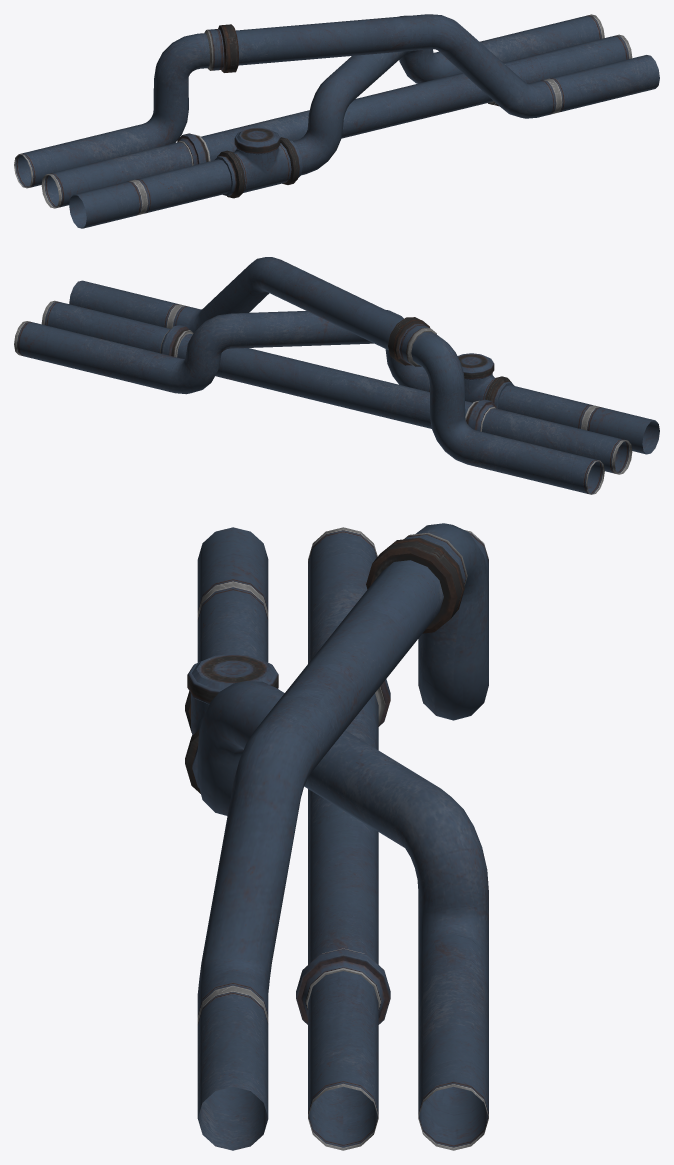
File: Pipe3_D_L0.fbx
The picture shows the model from 3 angles, top to bottom: view 1: azimuth 30°, elevation 25°; view 2: azimuth 150°, elevation 25°; view 3: azimuth 270°, elevation 25°; orthographic projection. The views are drawn at different scales.
Visible parts, largest first — view 1: PIpe3_D_L0; view 2: PIpe3_D_L0; view 3: PIpe3_D_L0.
Boxes of the visible parts, x1,y1,x2,y2 form: PIpe3_D_L0: (14, 14, 659, 228); PIpe3_D_L0: (14, 257, 659, 494); PIpe3_D_L0: (185, 523, 488, 1150).
Bounding box in the file's own units: 200 × 41.84 × 45.91.
